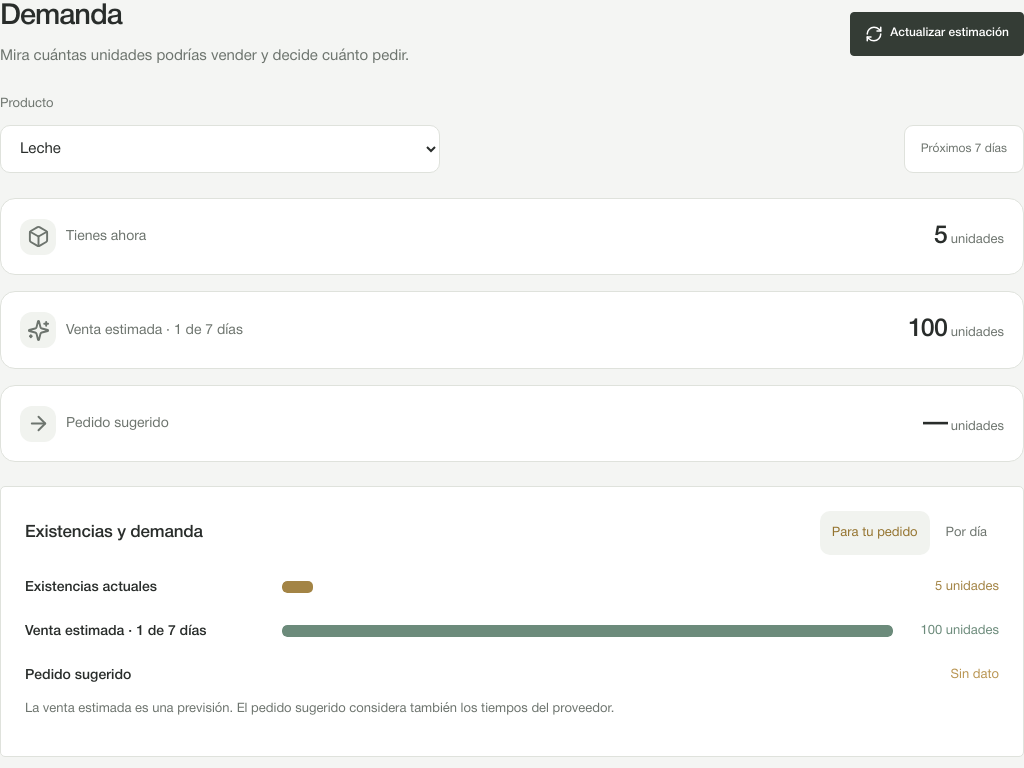
muestra solo estimaciones básicas en la gráfica diaria y el detalle aunque la API incluya IA
What coordinates should you click on to do the following:
click the button "Por día"
I would click on:
 (966, 533)
Its box is x1=934 y1=511 x2=999 y2=555.
(page scrolled)
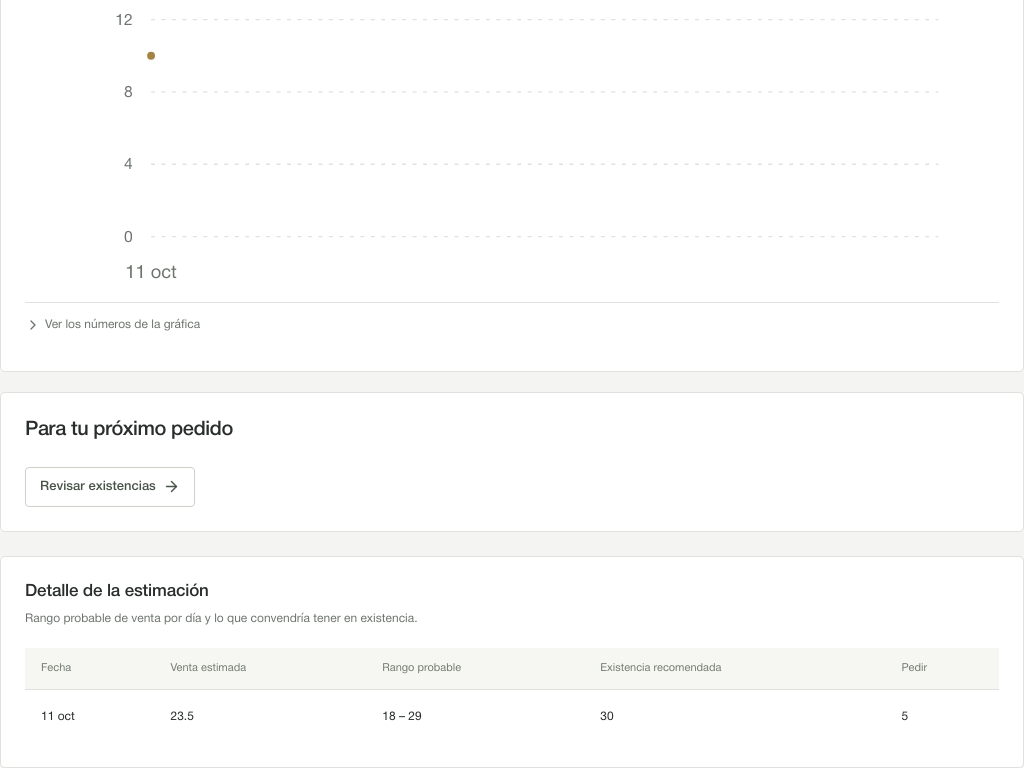
expect the number of rows is 2: met, box x1=25 y1=648 x2=999 y2=689; x1=25 y1=689 x2=999 y2=743
expect the number of column headings is 5: met, box x1=25 y1=648 x2=154 y2=689; x1=154 y1=648 x2=366 y2=689; x1=366 y1=648 x2=584 y2=689; x1=584 y1=648 x2=886 y2=689; x1=886 y1=648 x2=999 y2=689
expect the cell "23.5" is shown: met, box x1=154 y1=689 x2=366 y2=743
